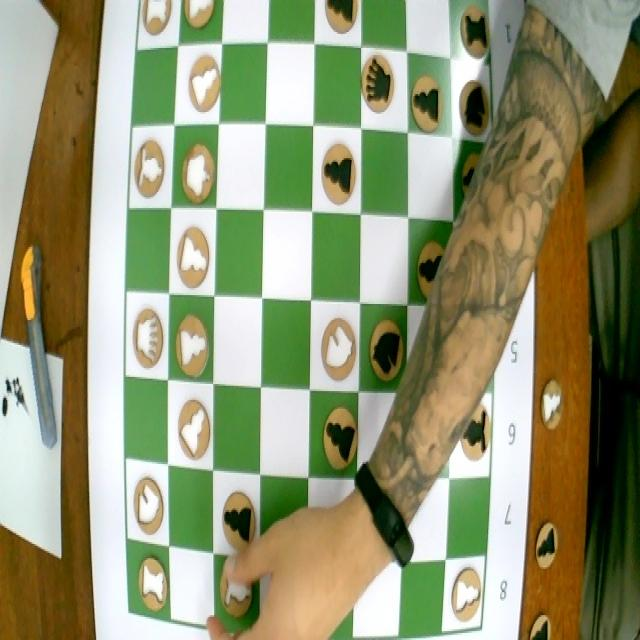chess-pieces: (321, 401, 360, 479), (175, 395, 216, 466), (171, 312, 213, 381), (180, 139, 220, 207), (320, 135, 357, 205), (320, 317, 358, 385), (132, 136, 170, 203), (176, 222, 212, 292), (129, 306, 166, 374), (135, 555, 172, 619), (370, 318, 404, 384), (446, 565, 484, 624), (361, 51, 395, 116), (187, 51, 222, 112), (458, 403, 494, 462), (132, 479, 168, 538), (220, 490, 256, 547), (457, 80, 491, 140), (458, 6, 491, 66), (414, 241, 448, 297), (412, 74, 443, 134), (321, 0, 360, 36), (180, 0, 216, 37), (139, 0, 172, 39)
